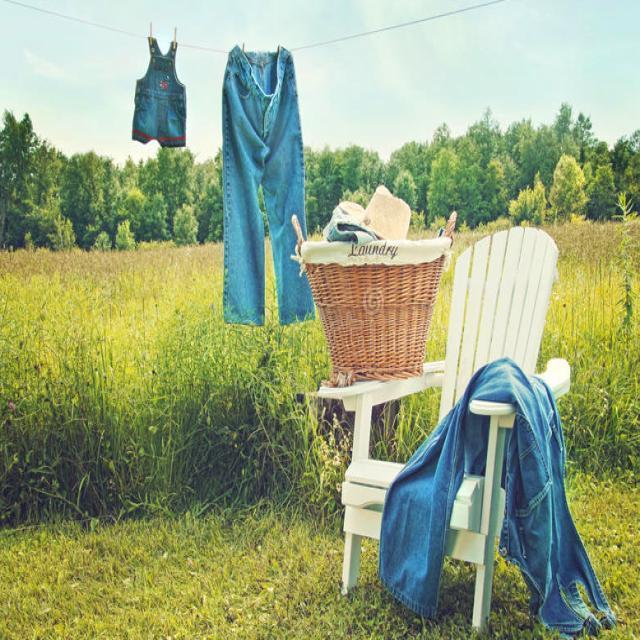clothes: (198, 70, 312, 346)
